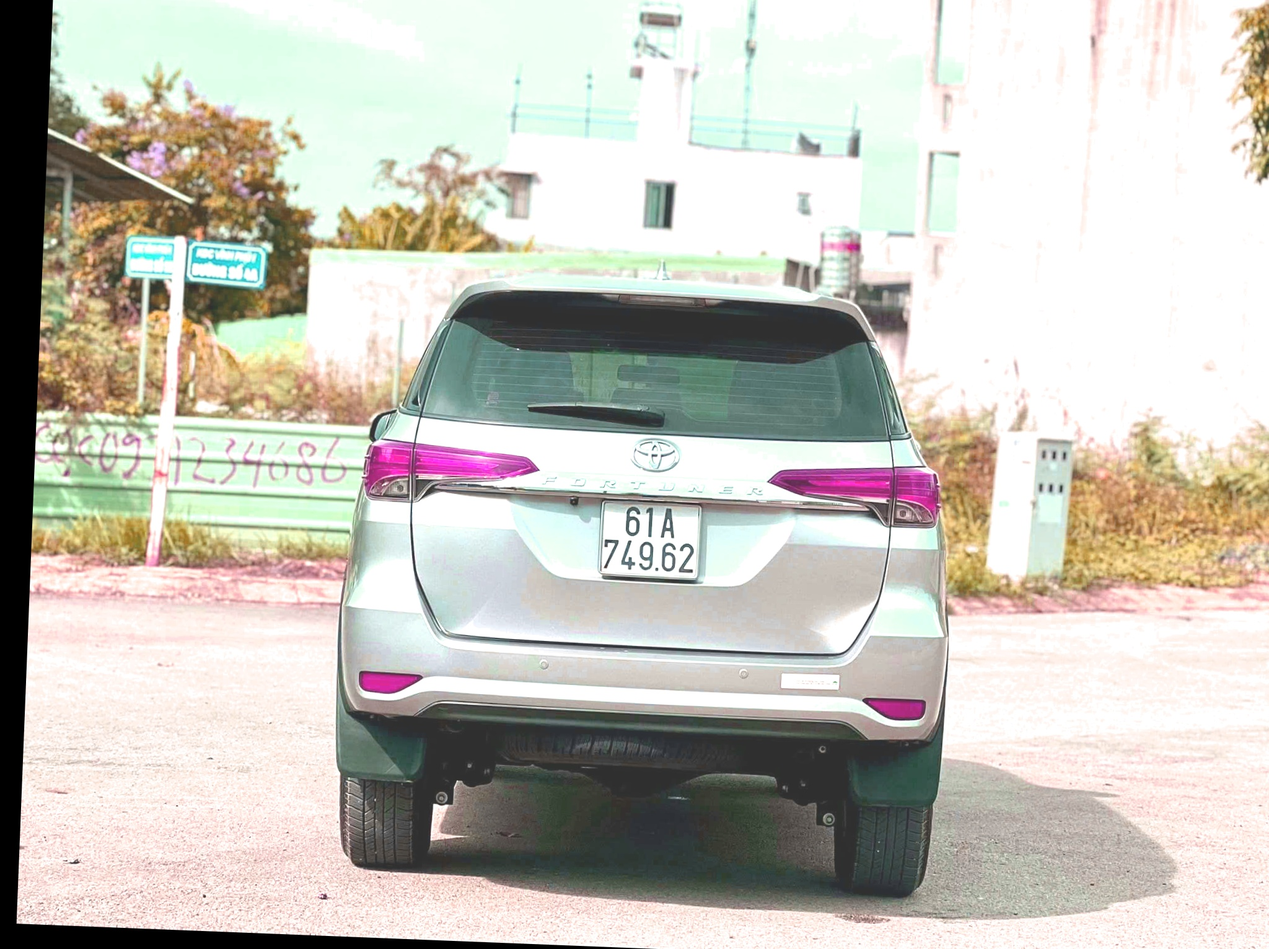Bien-so: (585, 505, 699, 592)
